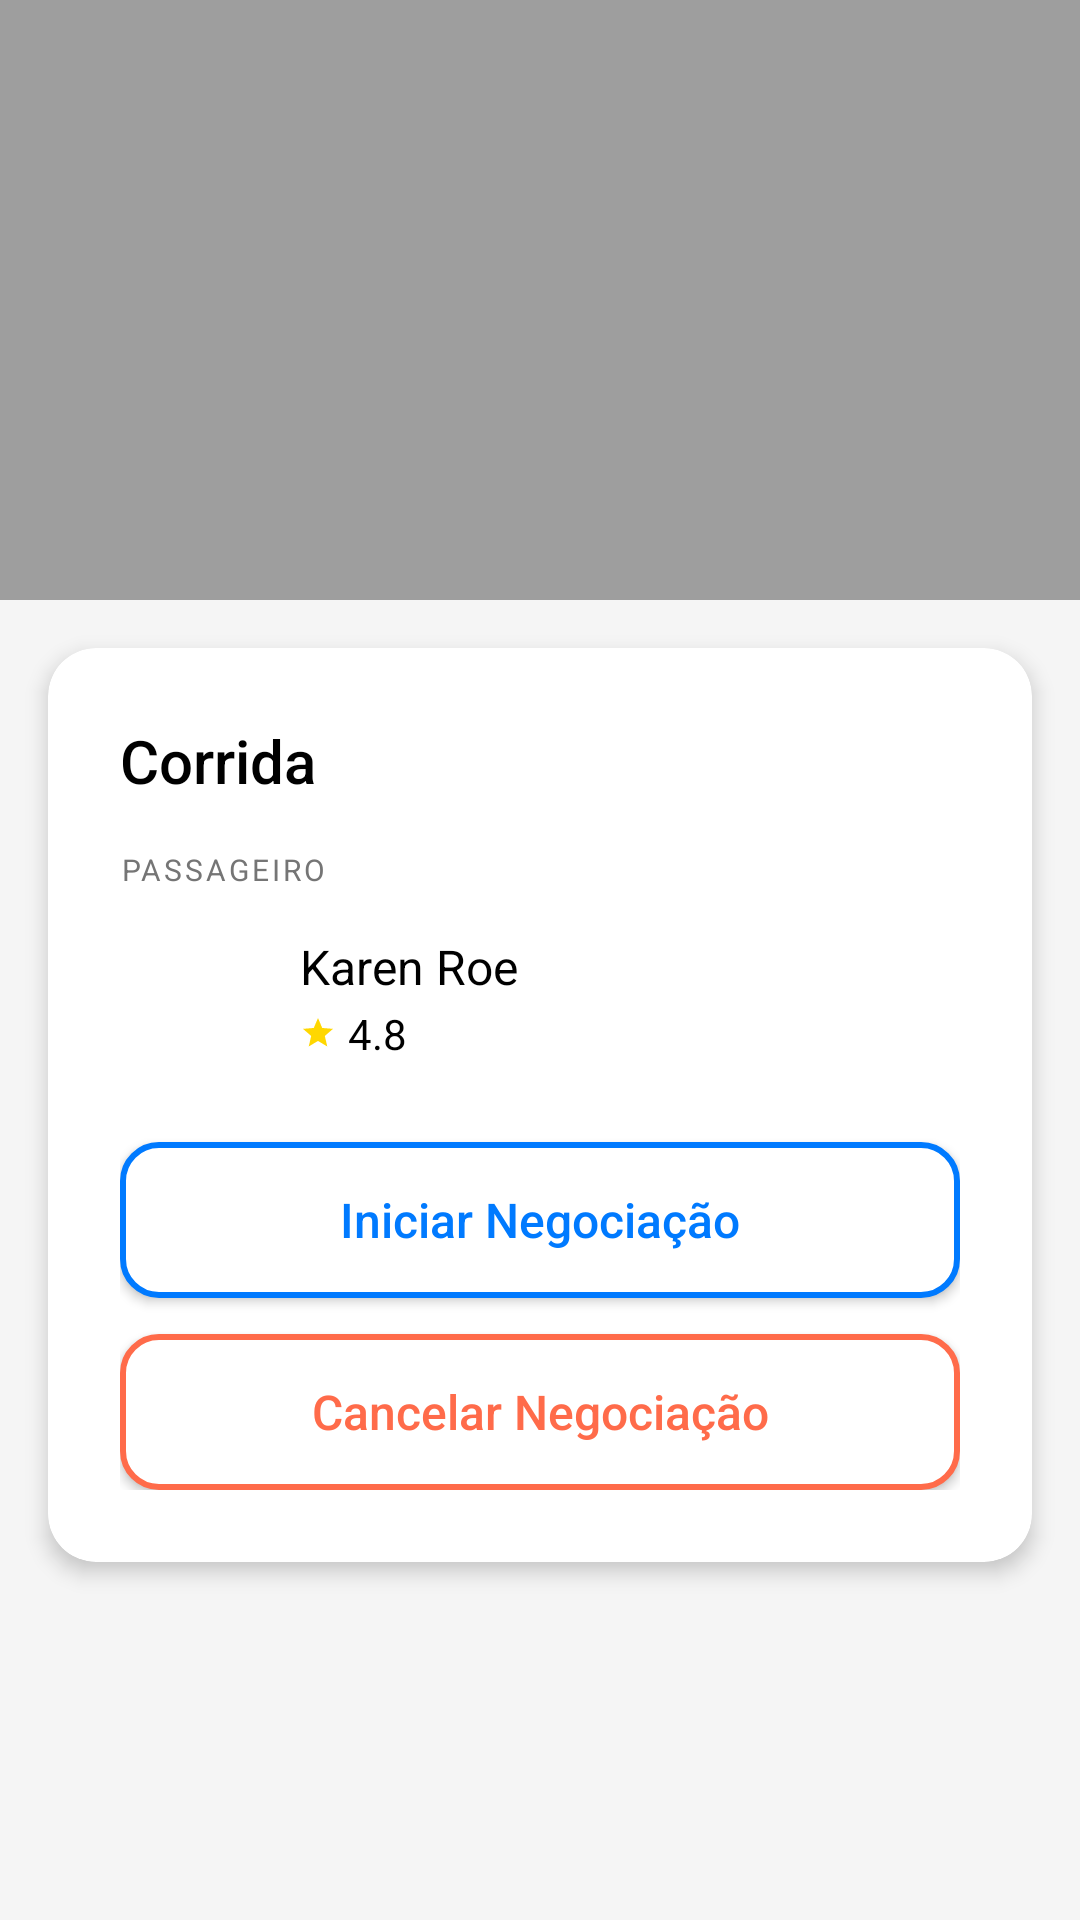

Where icons sit on this 1080 × 1920 app screen, as {"left": x1, "top": y1, "right": x2, "bottom": y2}:
star: {"left": 303, "top": 1018, "right": 333, "bottom": 1047}
